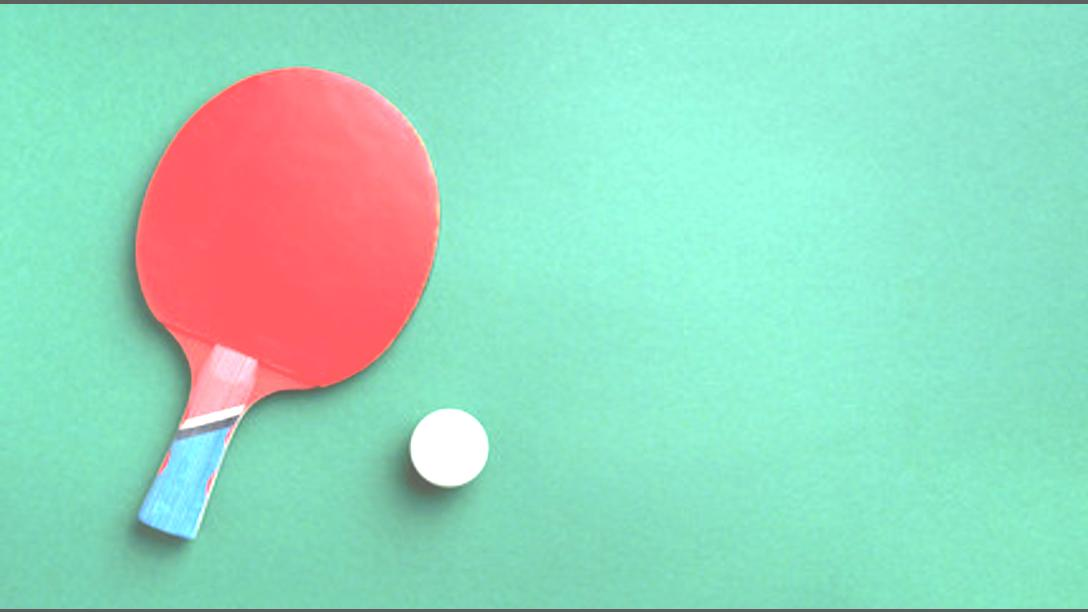Table-Tennis-Ball: (412, 410, 488, 484)
